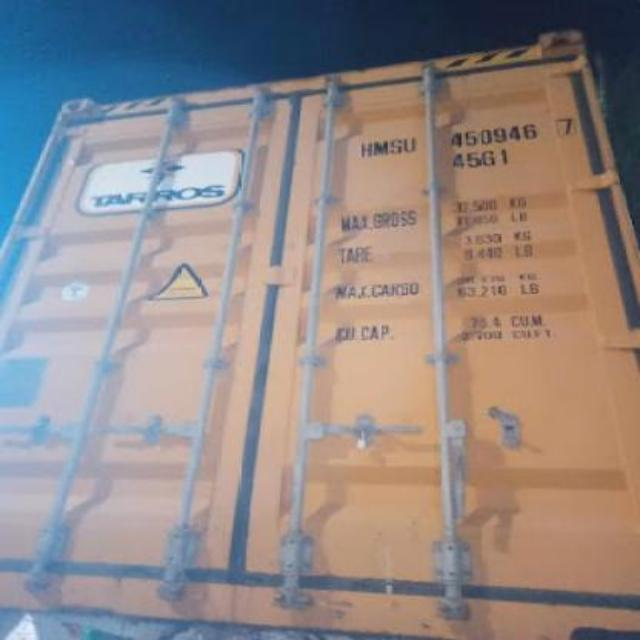0: (480, 120, 492, 146)
4: (510, 118, 522, 144), (450, 128, 462, 148)
5: (464, 115, 478, 148)
6: (524, 115, 540, 142)
7: (548, 112, 580, 136)
9: (492, 116, 508, 146)
H: (358, 138, 374, 160)
M: (374, 134, 388, 162)
S: (386, 130, 404, 160)
U: (402, 129, 416, 155)
